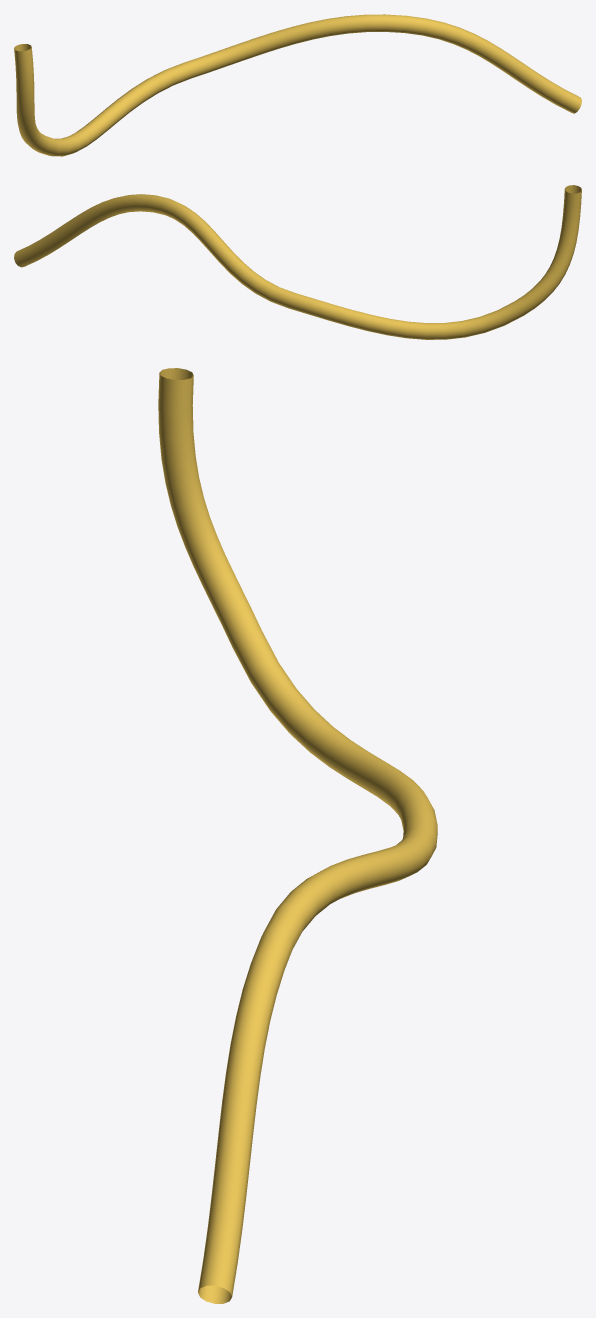
File: Deep_branch_ulnar_nerve_left.glb
3 views of the same model, one above another, from view 1: azimuth 30°, elevation 25°; view 2: azimuth 150°, elevation 25°; view 3: azimuth 270°, elevation 25° (orthographic). The views are drawn at different scales.
Parts seen in each view (by area): view 1: Deep_branch_of_ulnar_nerve.l_BezierCurve.536; view 2: Deep_branch_of_ulnar_nerve.l_BezierCurve.536; view 3: Deep_branch_of_ulnar_nerve.l_BezierCurve.536.
Part boxes in pixels (x1,y1,x2,y2): Deep_branch_of_ulnar_nerve.l_BezierCurve.536: (14, 14, 581, 156); Deep_branch_of_ulnar_nerve.l_BezierCurve.536: (14, 185, 581, 339); Deep_branch_of_ulnar_nerve.l_BezierCurve.536: (158, 368, 437, 1303).
Bounding box in the file's own units: 0.0369 × 0.0129 × 0.00806.
